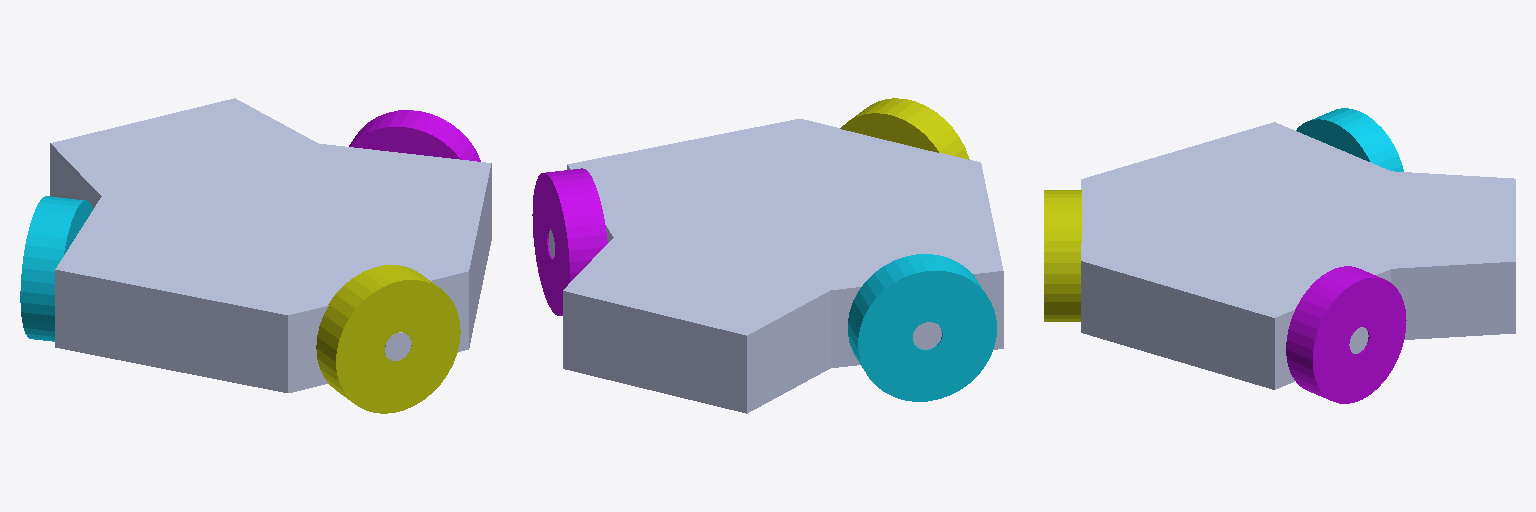
robot.urdf — simpleModel:
<robot
  name="simpleModel">
  <link
    name="base_link">
    <inertial>
      <origin
        xyz="0.12576783984691 0.157079279388995 0.253293013901622"
        rpy="0 0 0" />
      <mass
        value="3.47488081535132" />
      <inertia
        ixx="0"
        ixy="0"
        ixz="0"
        iyy="0"
        iyz="0"
        izz="0" />
    </inertial>
    <visual>
      <origin
        xyz="0 0 0"
        rpy="0 0 0" />
      <geometry>
        <mesh
          filename="package://simpleModel/meshes/base_link.STL" />
      </geometry>
      <material
        name="">
        <color
          rgba="0.792156862745098 0.819607843137255 0.933333333333333 1" />
      </material>
    </visual>
    <collision>
      <origin
        xyz="0 0 0"
        rpy="0 0 0" />
      <geometry>
        <mesh
          filename="package://simpleModel/meshes/base_link.STL" />
      </geometry>
    </collision>
  </link>
  <link
    name="left_wheel">
    <inertial>
      <origin
        xyz="5.55111512312578E-17 -0.0590000000000001 -1.94289029309402E-16"
        rpy="0 0 0" />
      <mass
        value="0.164669720530563" />
      <inertia
        ixx="0"
        ixy="0"
        ixz="0"
        iyy="0"
        iyz="0"
        izz="0" />
    </inertial>
    <visual>
      <origin
        xyz="0 0 0"
        rpy="0 0 0" />
      <geometry>
        <mesh
          filename="package://simpleModel/meshes/left_wheel.STL" />
      </geometry>
      <material
        name="">
        <color
          rgba="0.1 0.819607843137255 0.933333333333333 1" />
      </material>
    </visual>
    <collision>
      <origin
        xyz="0 0 0"
        rpy="0 0 0" />
      <geometry>
        <mesh
          filename="package://simpleModel/meshes/left_wheel.STL" />
      </geometry>
    </collision>
  </link>
  <joint
    name="left"
    type="continuous">
    <origin
      xyz="-0.0455337877398974 -0.16958975480187 0.157079279388995"
      rpy="-2.81885393441649E-15 4.32963728535954E-17 0.785398163397448" />
    <parent
      link="base_link" />
    <child
      link="left_wheel" />
    <axis
      xyz="0 -1 0" />
  </joint>
  <link
    name="right_wheel">
    <inertial>
      <origin
        xyz="0 -0.0311417692656913 -5.55111512312578E-17"
        rpy="0 0 0" />
      <mass
        value="0.164669720530563" />
      <inertia
        ixx="0"
        ixy="0"
        ixz="0"
        iyy="0"
        iyz="0"
        izz="0" />
    </inertial>
    <visual>
      <origin
        xyz="0 0 0"
        rpy="1.57079632679 0 0" />
      <geometry>
        <mesh
          filename="package://simpleModel/meshes/right_wheel.STL" />
      </geometry>
      <material
        name="">
        <color
          rgba="0.792156862745098 0.1 0.933333333333333 1" />
      </material>
    </visual>
    <collision>
      <origin
        xyz="0 0 0"
        rpy="0 0 0" />
      <geometry>
        <mesh
          filename="package://simpleModel/meshes/right_wheel.STL" />
      </geometry>
    </collision>
  </link>
  <joint
    name="right"
    type="continuous">
    <origin
      xyz="0.233329611117793 -0.233329611117793 0.157079279388995"
      rpy="0.785398163397448 -1.5707963267949 0" />
    <parent
      link="base_link" />
    <child
      link="right_wheel" />
    <axis
      xyz="0 0 1" />
  </joint>
  <link
    name="rear_wheel">
    <inertial>
      <origin
        xyz="-2.77555756156289E-17 0.0130000000000003 2.77555756156289E-17"
        rpy="0 0 0" />
      <mass
        value="0.164669720530563" />
      <inertia
        ixx="0"
        ixy="0"
        ixz="0"
        iyy="0"
        iyz="0"
        izz="0" />
    </inertial>
    <visual>
      <origin
        xyz="0 -0.025 0"
        rpy="0 0 0" />
      <geometry>
        <mesh
          filename="package://simpleModel/meshes/rear_wheel.STL" />
      </geometry>
      <material
        name="">
        <color
          rgba="0.792156862745098 0.819607843137255 0.1 1" />
      </material>
    </visual>
    <collision>
      <origin
        xyz="0 0 0"
        rpy="0 0 0" />
      <geometry>
        <mesh
          filename="package://simpleModel/meshes/rear_wheel.STL" />
      </geometry>
    </collision>
  </link>
  <joint
    name="rear"
    type="continuous">
    <origin
      xyz="0.125767839846911 -0.395318025852579 0.157079279388994"
      rpy="0 -1.5707963267949 0" />
    <parent
      link="base_link" />
    <child
      link="rear_wheel" />
    <axis
      xyz="0 1 0" />
  </joint>
</robot>

--- Render facts (derived) ---
The picture shows the robot from 3 angles, left to right: view 1: azimuth 30°, elevation 25°; view 2: azimuth 150°, elevation 25°; view 3: azimuth 270°, elevation 25°; orthographic projection.
Model simpleModel with 4 links and 3 joints (3 continuous), rooted at base_link, posed all joints at 0.
Links seen in each view (by area): view 1: base_link, rear_wheel, left_wheel, right_wheel; view 2: base_link, left_wheel, right_wheel, rear_wheel; view 3: base_link, right_wheel, rear_wheel, left_wheel.
Boxes of the visible links, bbox=[...] form: base_link: bbox=[50, 98, 491, 392]; rear_wheel: bbox=[316, 265, 460, 413]; left_wheel: bbox=[20, 196, 92, 341]; right_wheel: bbox=[349, 110, 480, 161]; base_link: bbox=[549, 119, 1003, 413]; left_wheel: bbox=[848, 254, 996, 401]; right_wheel: bbox=[532, 168, 607, 315]; rear_wheel: bbox=[840, 98, 969, 159]; base_link: bbox=[1081, 122, 1515, 389]; right_wheel: bbox=[1286, 266, 1406, 403]; rear_wheel: bbox=[1044, 190, 1081, 321]; left_wheel: bbox=[1296, 108, 1403, 171].
Size in the robot's own frame: 0.3425 by 0.3262 by 0.092 metres.
4 mesh visuals loaded from 4 distinct referenced files (4 binary STL).
